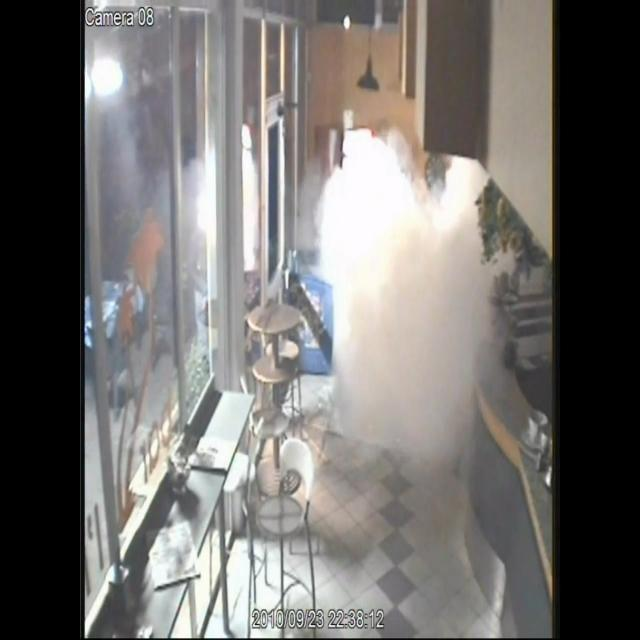Smoke: (316, 132, 492, 466)
